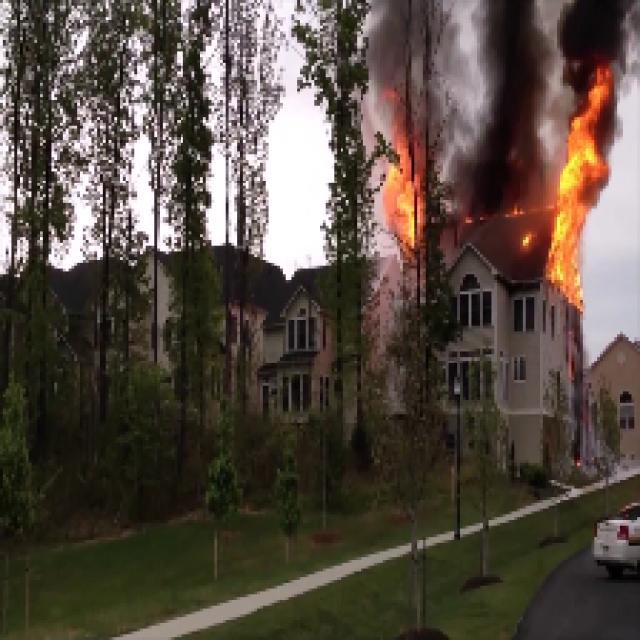fire: (543, 85, 614, 314), (376, 140, 425, 261)
smoke: (367, 1, 630, 80), (429, 83, 536, 220)
